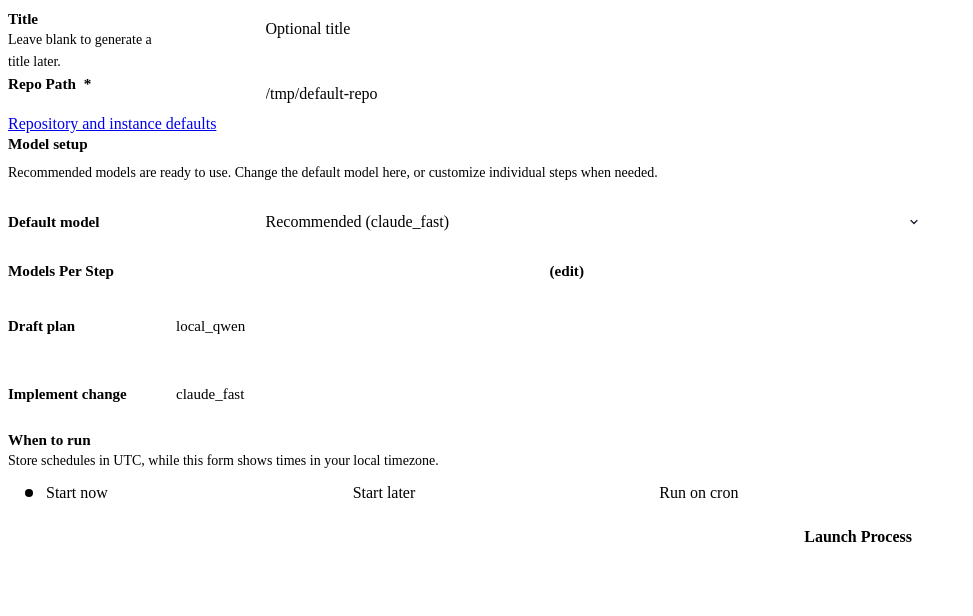
GenericLauncher › stores and reuses recent values for opted-in text fields after a successful launch
This screenshot has width=973, height=616.
Replace the text in the field with id "test-launcher-form-repoPath" with "/tmp/recent-repo" at (604, 94), box [252,73,956,115]
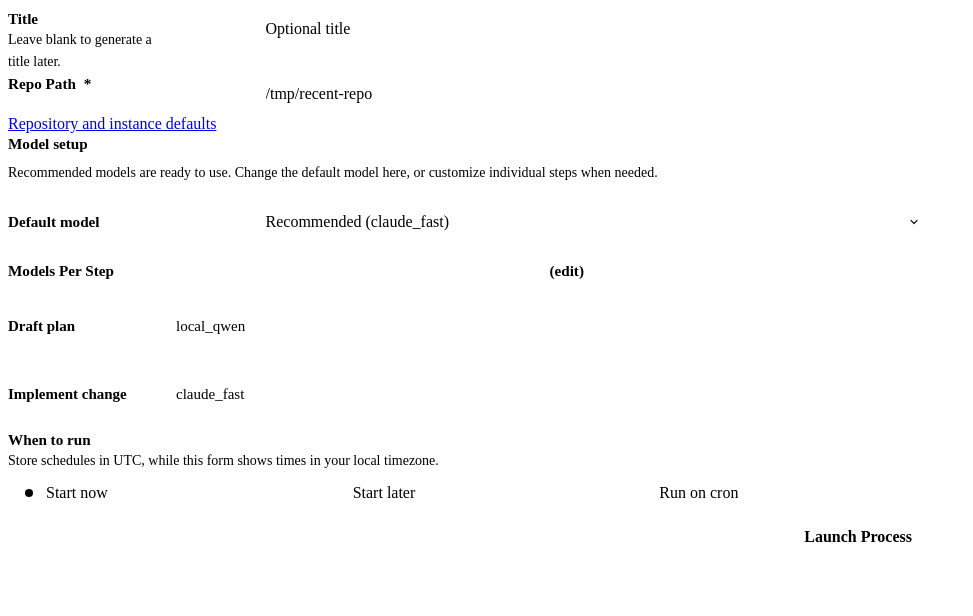
Expected: the text "Checking values" is not shown
Click the submit button at (858, 537), box [788,514,928,560]
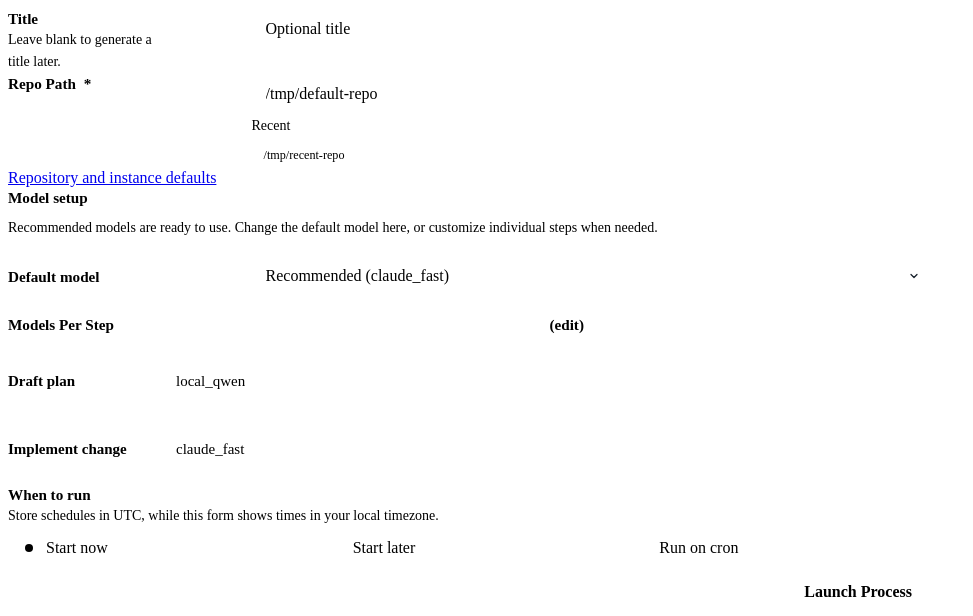
Click the button "/tmp/recent-repo" at (304, 156), box [252,142,356,169]
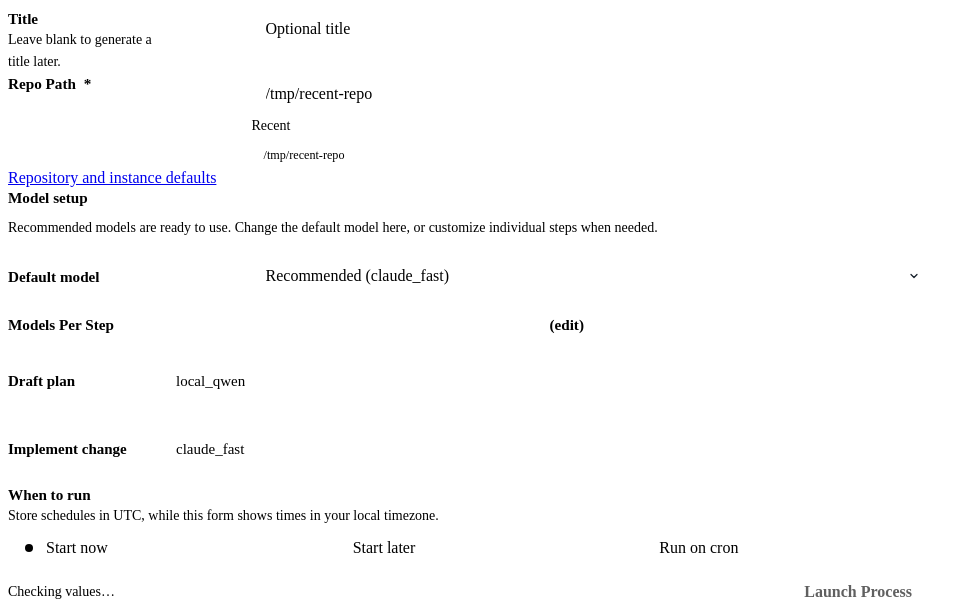
Result: the field with id "test-launcher-form-repoPath" holds "/tmp/recent-repo" at [252,73,956,115]
